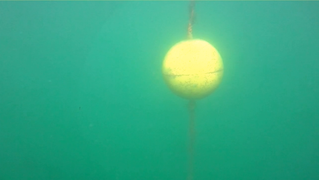buoy: (161, 38, 224, 99)
